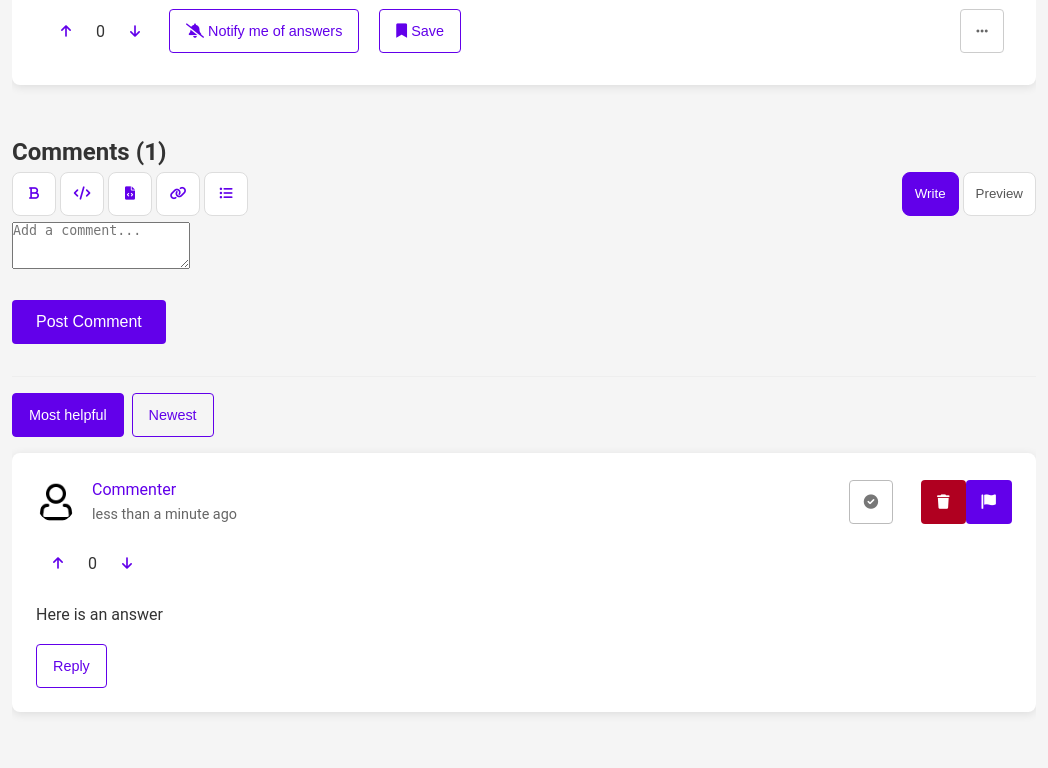
Test: PostDetail accepted answers › accepting an answer flips the comment card and the question badge
(page scrolled)
Click the button named "accept this answer".
click(871, 502)  # box [849,480,893,524]
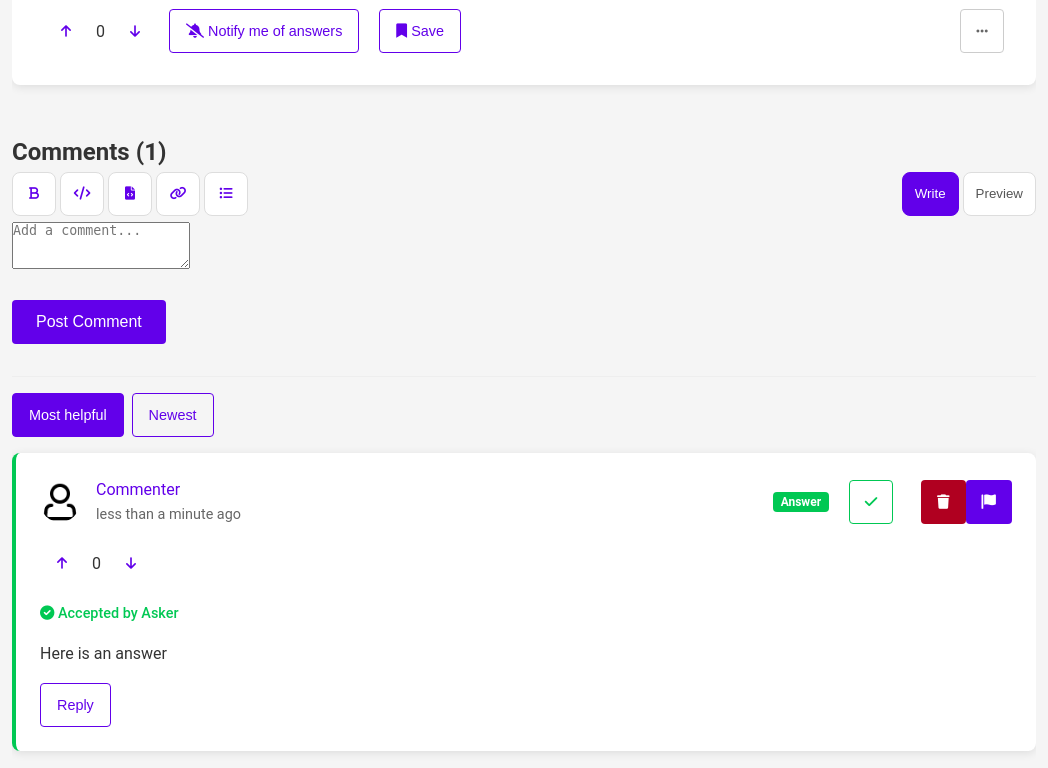
Expected: the text "Accepted by Asker" is shown, [40,605,178,622]
